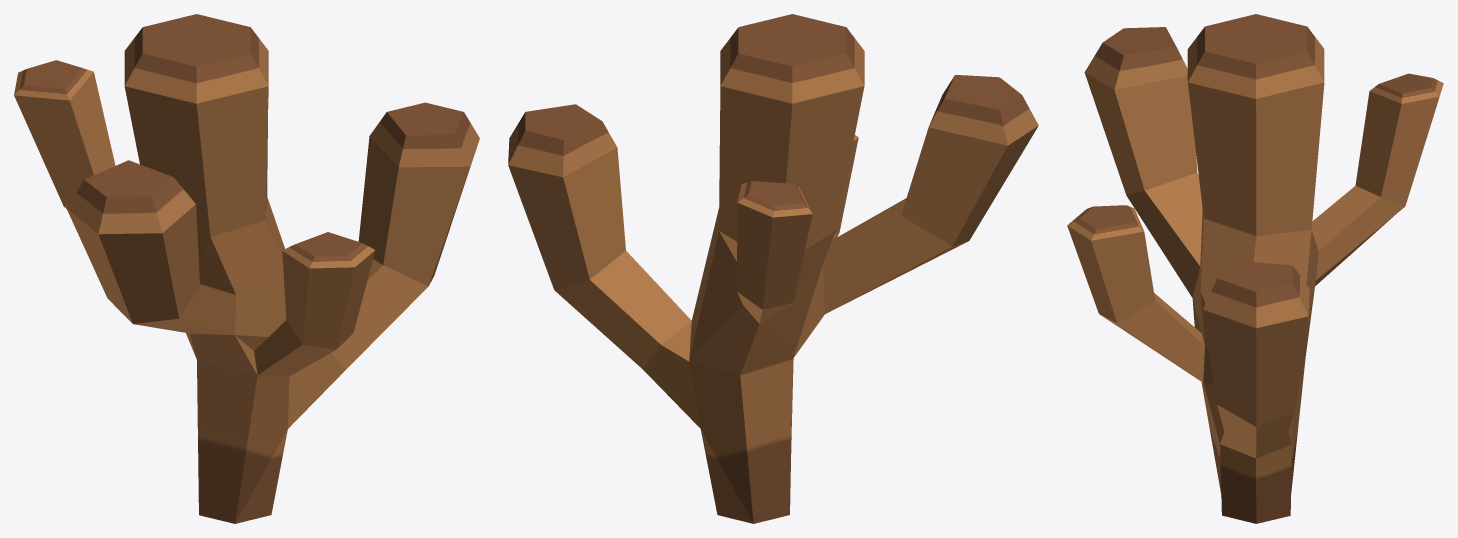
Rendered from trp_coral2.glb.
3 renders of one model, left to right at view 1: azimuth 30°, elevation 25°; view 2: azimuth 150°, elevation 25°; view 3: azimuth 270°, elevation 25°, orthographic. The views are drawn at different scales.
Parts seen in each view (by area): view 1: SM_Prop_Coral_02; view 2: SM_Prop_Coral_02; view 3: SM_Prop_Coral_02.
Boxes of the visible parts, x1,y1,x2,y2 form: SM_Prop_Coral_02: (14,14,479,523); SM_Prop_Coral_02: (508,14,1038,523); SM_Prop_Coral_02: (1067,14,1443,523).
Bounding box in the file's own units: 0.2328 × 0.2319 × 0.1757.
1 material, 1 textured.
